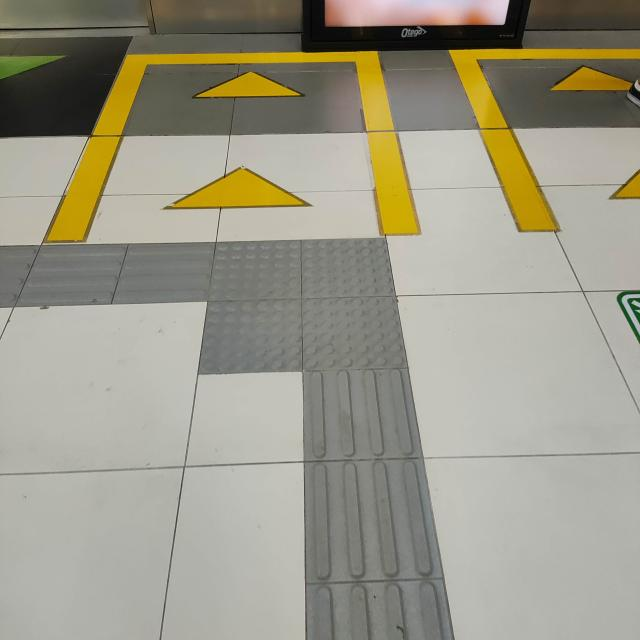kiri: (123, 216, 443, 409)
